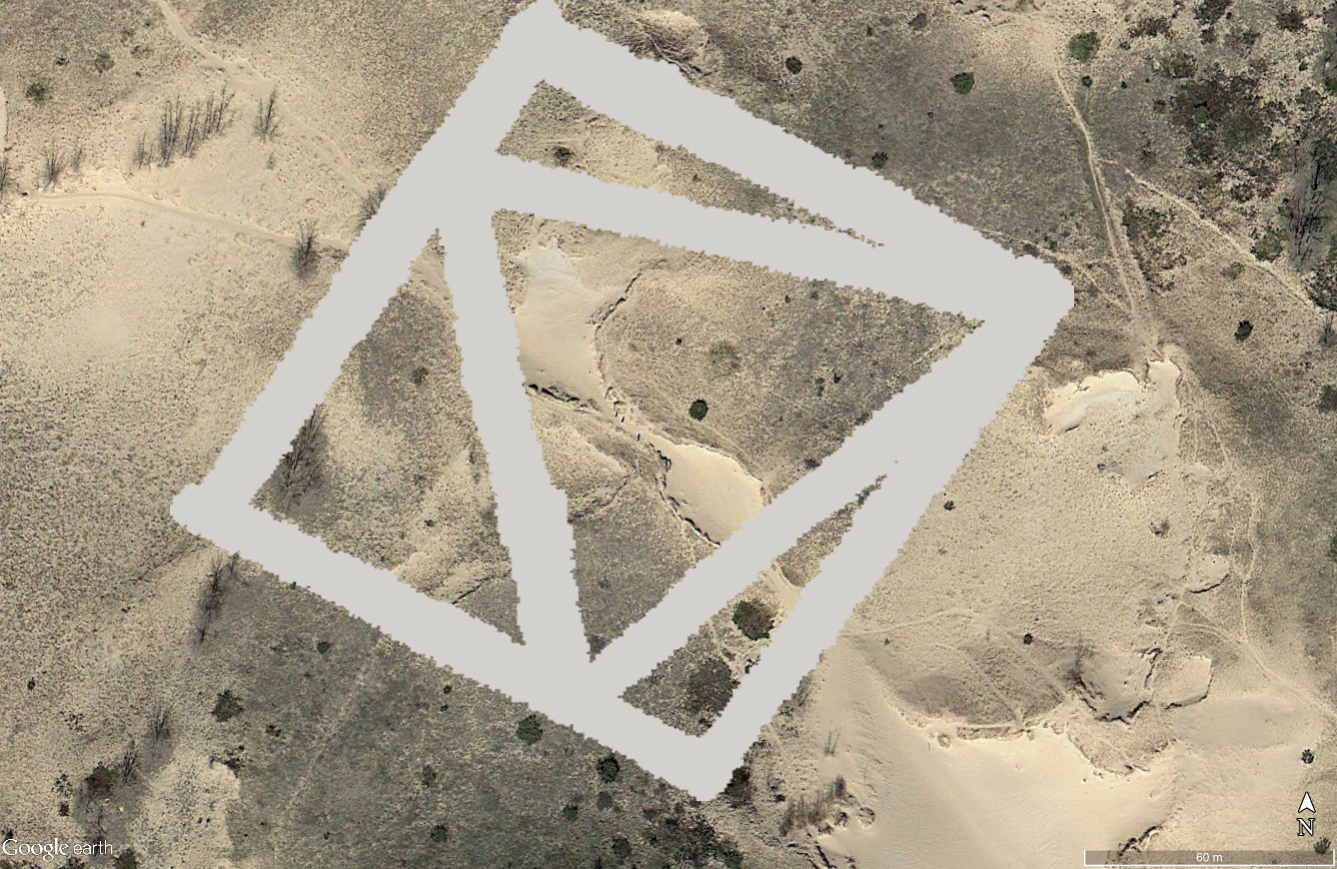marker: (157, 1, 1096, 807)
